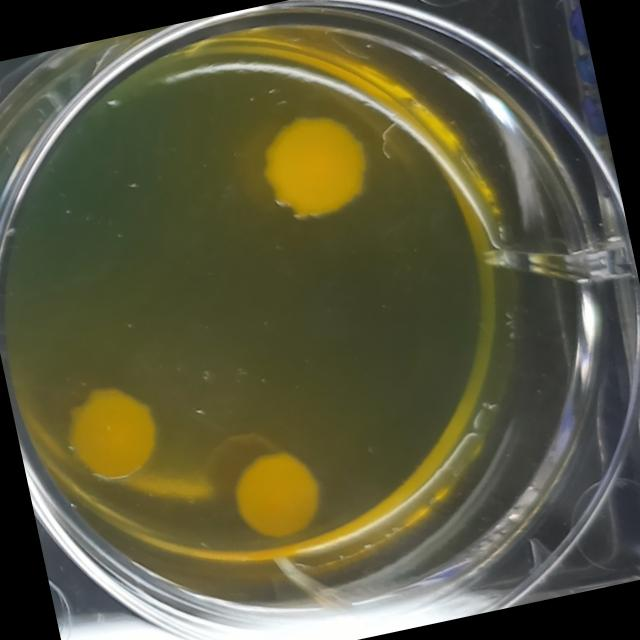vibrio: (250, 100, 386, 238), (42, 376, 170, 499), (224, 436, 338, 556)
